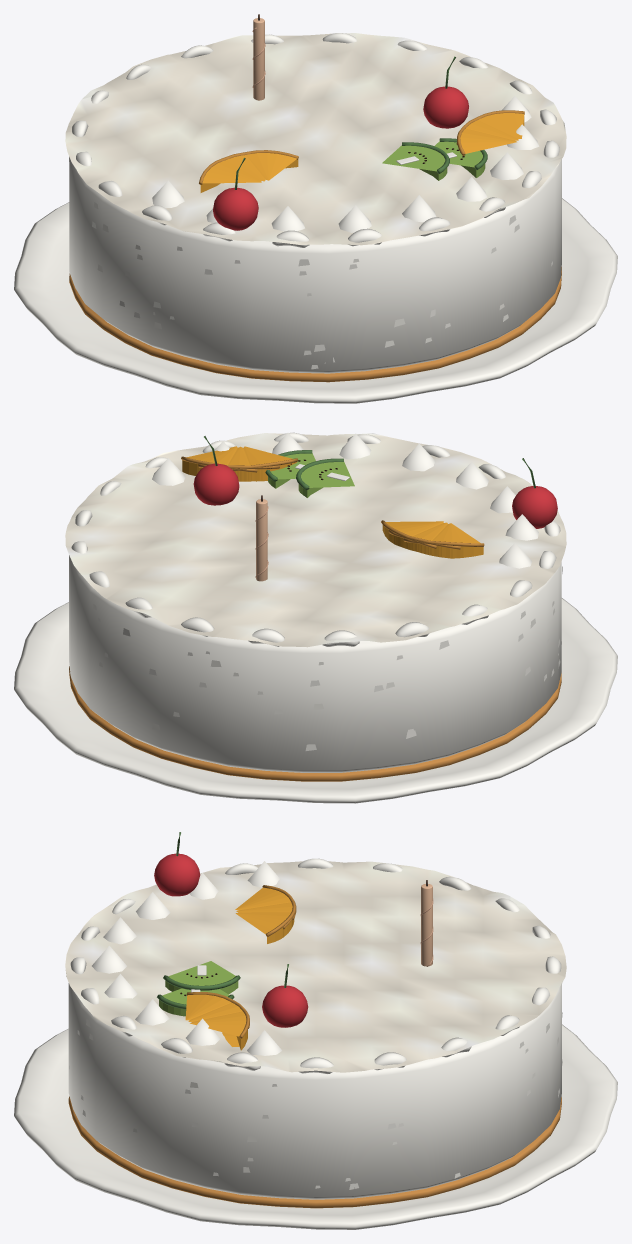
File: cake-01.8322186df595-8jrn4PdY.glb
The picture shows the model from 3 angles, top to bottom: view 1: azimuth 30°, elevation 25°; view 2: azimuth 150°, elevation 25°; view 3: azimuth 270°, elevation 25°; orthographic projection.
Parts seen in each view (by area): view 1: PART_FOOD_ROOT_MAT_cream, Irregular_hand_spread_food_surface, Clean_porcelain_plate, Exposed_thin_sponge_base, PART_FOOD_ROOT_MAT_peach, PART_FOOD_ROOT_MAT_strawberry, PART_FOOD_ROOT_MAT_kiwi, Classic_candle_0, PART_FOOD_ROOT_MAT_amber, PART_FOOD_ROOT_MAT_leaf; view 2: PART_FOOD_ROOT_MAT_cream, Irregular_hand_spread_food_surface, Clean_porcelain_plate, Exposed_thin_sponge_base, PART_FOOD_ROOT_MAT_peach, PART_FOOD_ROOT_MAT_strawberry, PART_FOOD_ROOT_MAT_kiwi, PART_FOOD_ROOT_MAT_amber, Classic_candle_0, PART_FOOD_ROOT_MAT_leaf; view 3: PART_FOOD_ROOT_MAT_cream, Irregular_hand_spread_food_surface, Clean_porcelain_plate, Exposed_thin_sponge_base, PART_FOOD_ROOT_MAT_peach, PART_FOOD_ROOT_MAT_strawberry, PART_FOOD_ROOT_MAT_kiwi, Classic_candle_0, PART_FOOD_ROOT_MAT_leaf, PART_FOOD_ROOT_MAT_amber.
Boxes of the visible parts, x1,y1,x2,y2 form: PART_FOOD_ROOT_MAT_cream: [69, 33, 561, 373]; Irregular_hand_spread_food_surface: [65, 33, 566, 245]; Clean_porcelain_plate: [14, 198, 617, 403]; Exposed_thin_sponge_base: [69, 267, 561, 382]; PART_FOOD_ROOT_MAT_peach: [200, 113, 524, 192]; PART_FOOD_ROOT_MAT_strawberry: [213, 86, 468, 230]; PART_FOOD_ROOT_MAT_kiwi: [382, 141, 485, 180]; Classic_candle_0: [253, 18, 264, 100]; PART_FOOD_ROOT_MAT_amber: [199, 110, 524, 184]; PART_FOOD_ROOT_MAT_leaf: [234, 56, 487, 189]; PART_FOOD_ROOT_MAT_cream: [69, 432, 562, 772]; Irregular_hand_spread_food_surface: [65, 433, 566, 647]; Clean_porcelain_plate: [14, 598, 617, 803]; Exposed_thin_sponge_base: [69, 666, 561, 781]; PART_FOOD_ROOT_MAT_peach: [182, 446, 483, 558]; PART_FOOD_ROOT_MAT_strawberry: [193, 463, 557, 528]; PART_FOOD_ROOT_MAT_kiwi: [268, 453, 354, 497]; PART_FOOD_ROOT_MAT_amber: [181, 456, 484, 549]; Classic_candle_0: [256, 499, 267, 581]; PART_FOOD_ROOT_MAT_leaf: [204, 436, 535, 490]; PART_FOOD_ROOT_MAT_cream: [68, 858, 562, 1199]; Irregular_hand_spread_food_surface: [65, 861, 566, 1072]; Clean_porcelain_plate: [14, 1024, 617, 1229]; Exposed_thin_sponge_base: [68, 1096, 561, 1208]; PART_FOOD_ROOT_MAT_peach: [185, 887, 294, 1050]; PART_FOOD_ROOT_MAT_strawberry: [154, 853, 308, 1027]; PART_FOOD_ROOT_MAT_kiwi: [159, 961, 238, 1016]; Classic_candle_0: [421, 884, 432, 966]; PART_FOOD_ROOT_MAT_leaf: [157, 832, 288, 1009]; PART_FOOD_ROOT_MAT_amber: [186, 885, 296, 1038].
Bounding box in the file's own units: 0.1959 × 0.083 × 0.1959.
